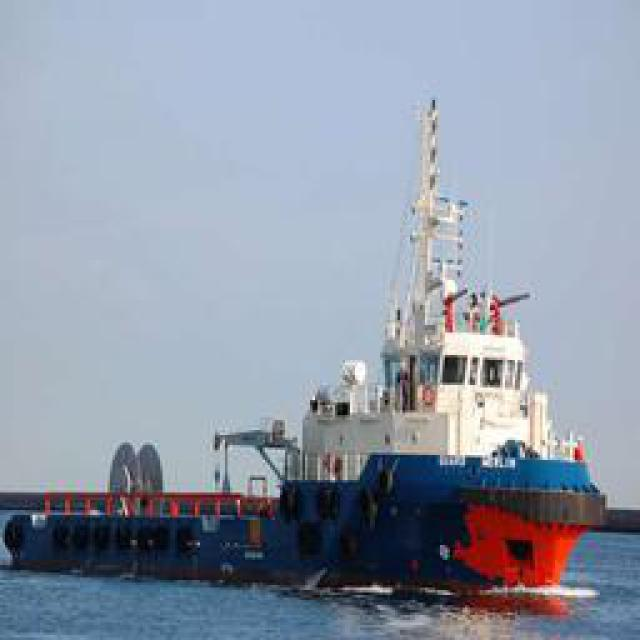Ship: (251, 85, 606, 610)
